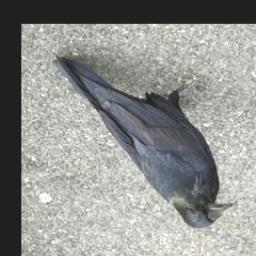Crow: (51, 54, 237, 229)
